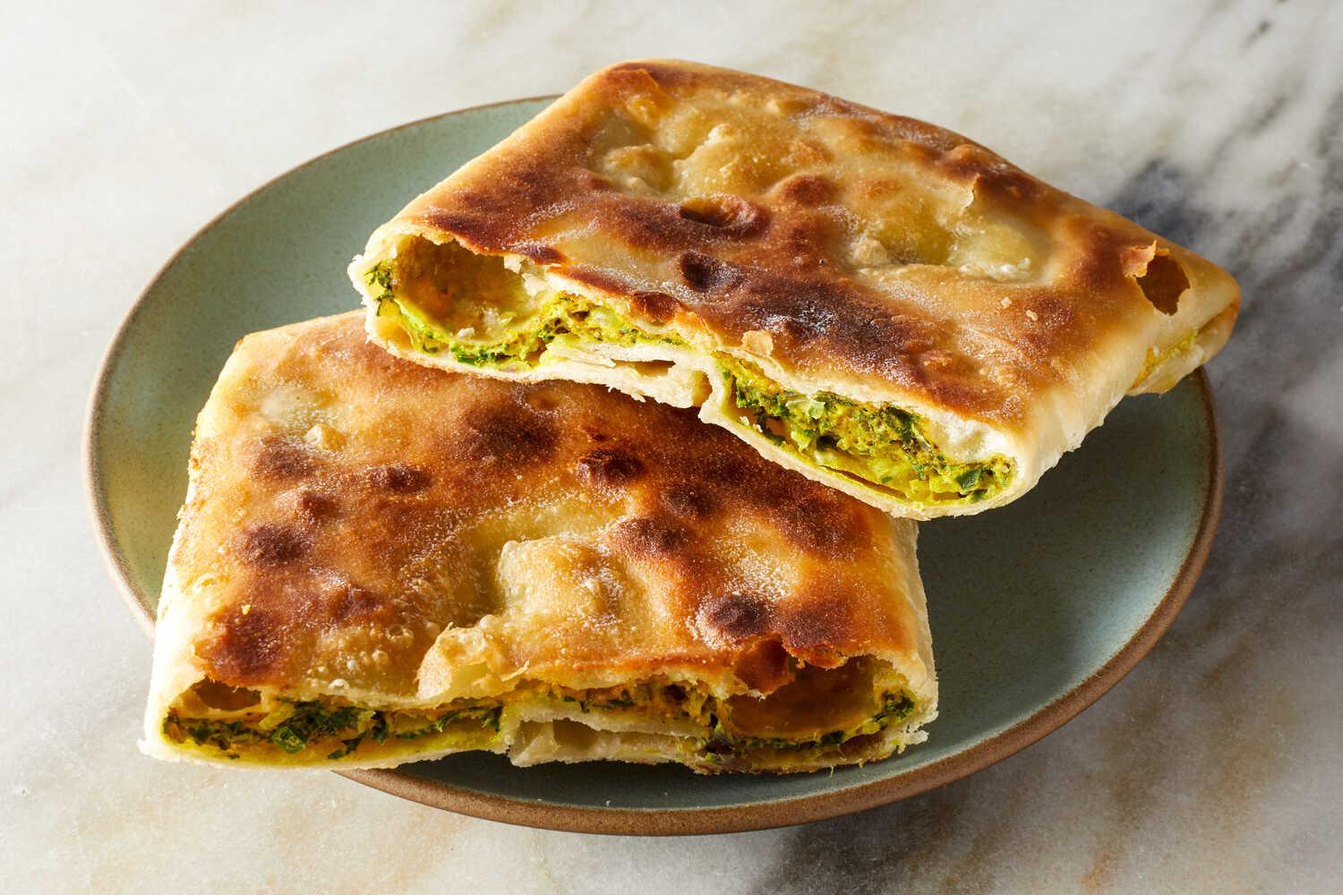paratha: (127, 302, 988, 768), (399, 68, 1215, 506)
